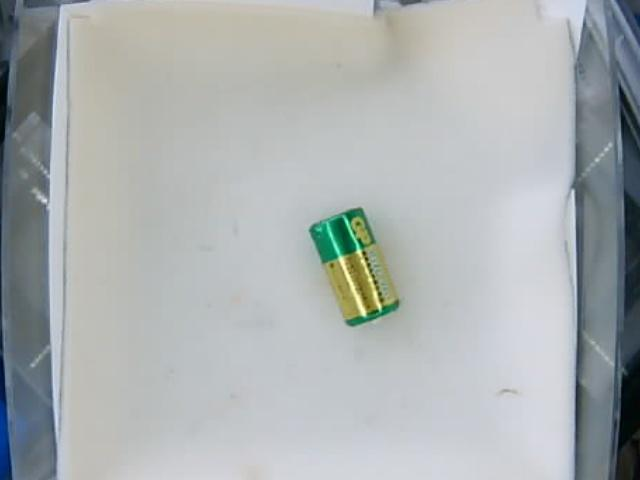Battery: (307, 207, 400, 328)
